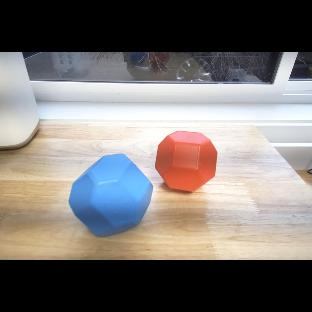V5_BLUE: (68, 153, 153, 239)
V5_RED: (155, 130, 218, 193)
